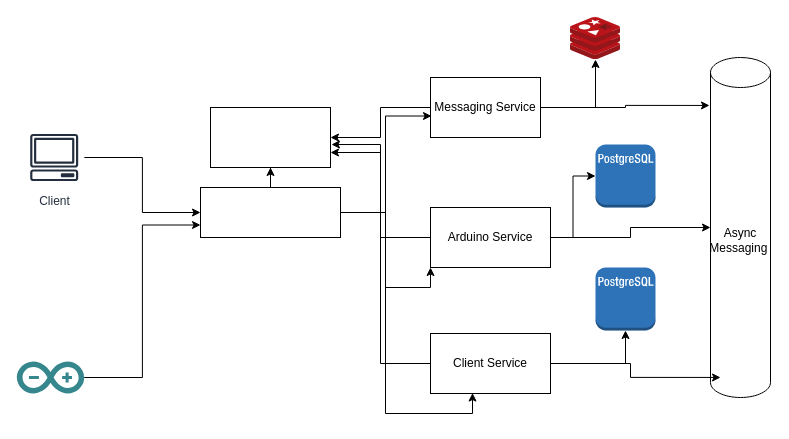
Image size: 789x439. Some labels were removed from this diagram. Here are the shapes that lost their labels. From the top down, the centre of each, then its label:
At [270,137]: "Service Registry".
At [270,212]: "API Gateway".
